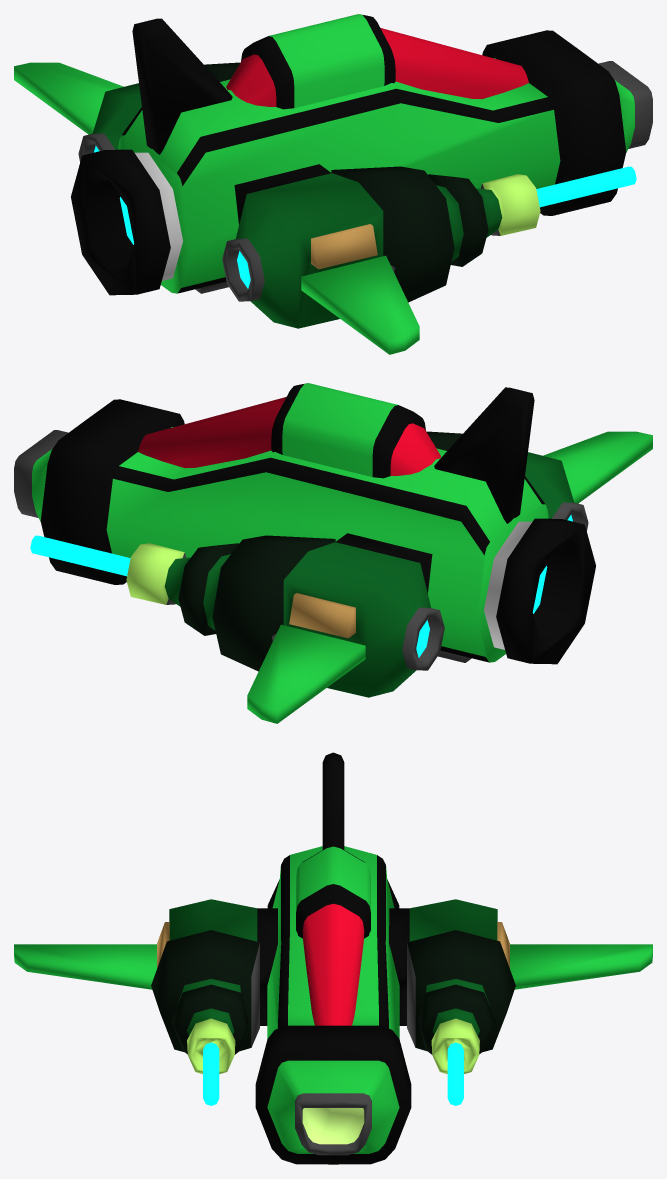
Rendered from redSpaceship.glb.
The picture shows the model from 3 angles, top to bottom: view 1: azimuth 30°, elevation 25°; view 2: azimuth 150°, elevation 25°; view 3: azimuth 270°, elevation 25°; orthographic projection. The views are drawn at different scales.
Visible parts, largest first — view 1: Cube, Cube.004, Cube.001, Cube.002, Cube.011, Cube.003; view 2: Cube, Cube.004, Cube.001, Cube.002, Cube.011, Cube.003; view 3: Cube.004, Cube, Cube.001, Cube.011, Cube.003.
Boxes of the visible parts, <box> form: Cube: <box>118,30,652,293</box>; Cube.004: <box>78,62,636,328</box>; Cube.001: <box>226,14,528,109</box>; Cube.002: <box>71,149,182,295</box>; Cube.011: <box>14,62,419,354</box>; Cube.003: <box>132,18,232,154</box>; Cube: <box>14,399,548,662</box>; Cube.004: <box>30,431,588,697</box>; Cube.001: <box>138,383,440,478</box>; Cube.002: <box>484,518,595,664</box>; Cube.011: <box>247,431,652,723</box>; Cube.003: <box>434,387,534,523</box>; Cube.004: <box>151,899,515,1105</box>; Cube: <box>255,846,411,1164</box>; Cube.001: <box>296,846,370,1025</box>; Cube.011: <box>14,944,652,989</box>; Cube.003: <box>322,752,344,849</box>.
Bounding box in the file's own units: 3.93 × 1.95 × 4.91.
Materials: 3 (1 with a texture image).
